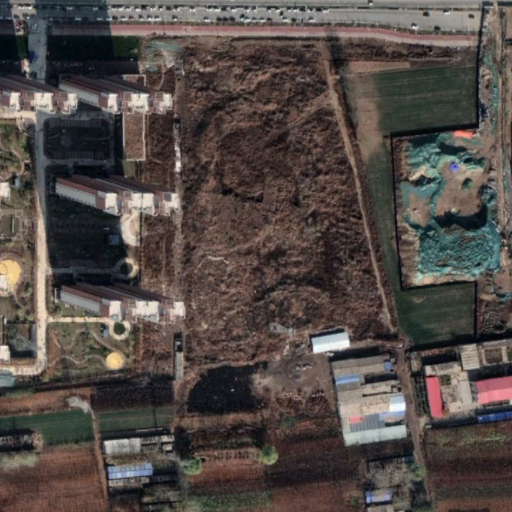cw: (402, 129, 504, 284)
